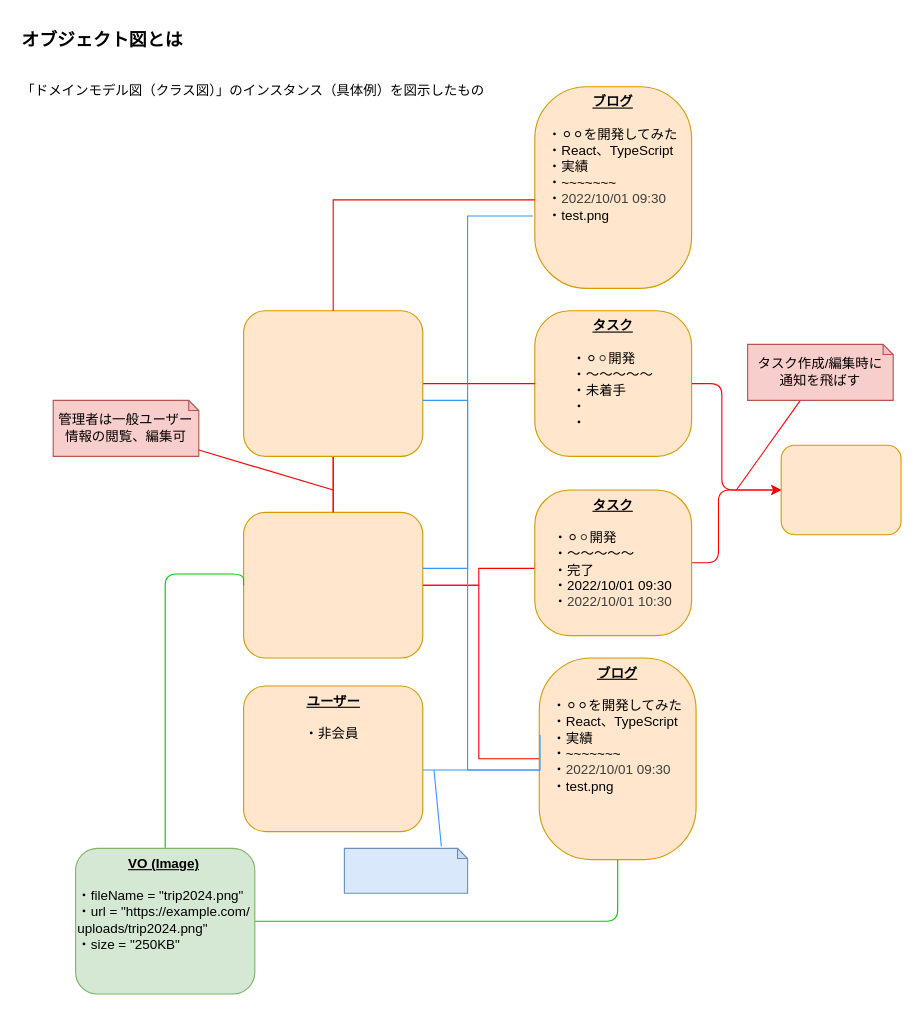
This 921x1014 diagram has some shape labels left out. Here are the shapes that lost their labels. From the top down, the box of each, then its label:
(242, 310, 423, 456): ユーザー ・ 鈴木 次郎 ・test123/67 ・taro@example.com ・admin
(780, 444, 901, 535): 通知先 ・Slack ・＠yamada
(242, 511, 423, 658): ユーザー ・山田 太郎 ・test123/67 ・taro@example.com ・test.png ・ user ・ React、TypeScript
(343, 847, 468, 893): 投稿者以外は 記事閲覧のみ
